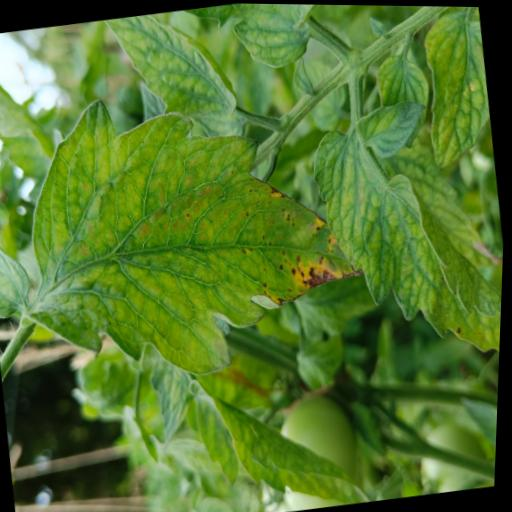Early Blight: (0, 64, 381, 401)
